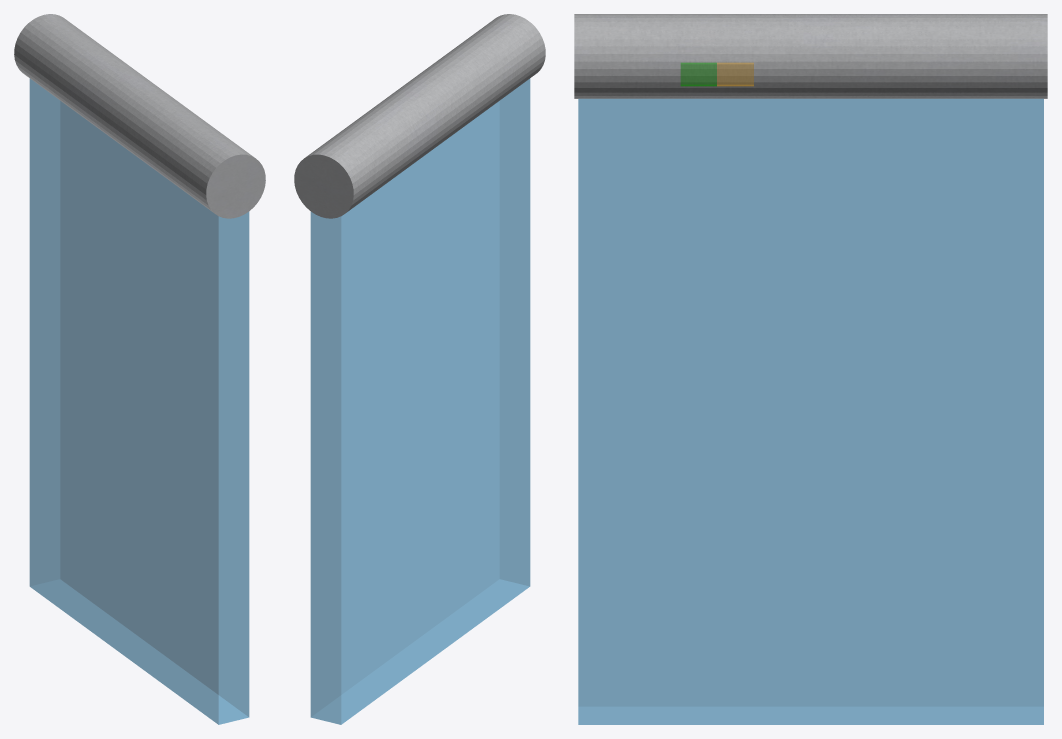
The model's file is eskleoteleportdoor-01.glb.
3 views of the same model, side by side, from view 1: azimuth 30°, elevation 25°; view 2: azimuth 150°, elevation 25°; view 3: azimuth 270°, elevation 25° (orthographic). The views are drawn at different scales.
Parts seen in each view (by area): view 1: Cube, Cylinder; view 2: Cube, Cylinder; view 3: Cube, Cylinder, Cube.002, Cube.001.
Boxes of the visible parts, x1=… form: Cube: x1=29, y1=78, x2=249, y2=724; Cylinder: x1=14, y1=14, x2=265, y2=218; Cube: x1=310, y1=78, x2=530, y2=724; Cylinder: x1=294, y1=14, x2=545, y2=218; Cube: x1=578, y1=98, x2=1043, y2=724; Cylinder: x1=574, y1=14, x2=1047, y2=98; Cube.002: x1=717, y1=62, x2=753, y2=86; Cube.001: x1=680, y1=62, x2=716, y2=86.
Bounding box in the file's own units: 0.4849 × 4.29 × 2.63.
4 materials, 1 textured.
